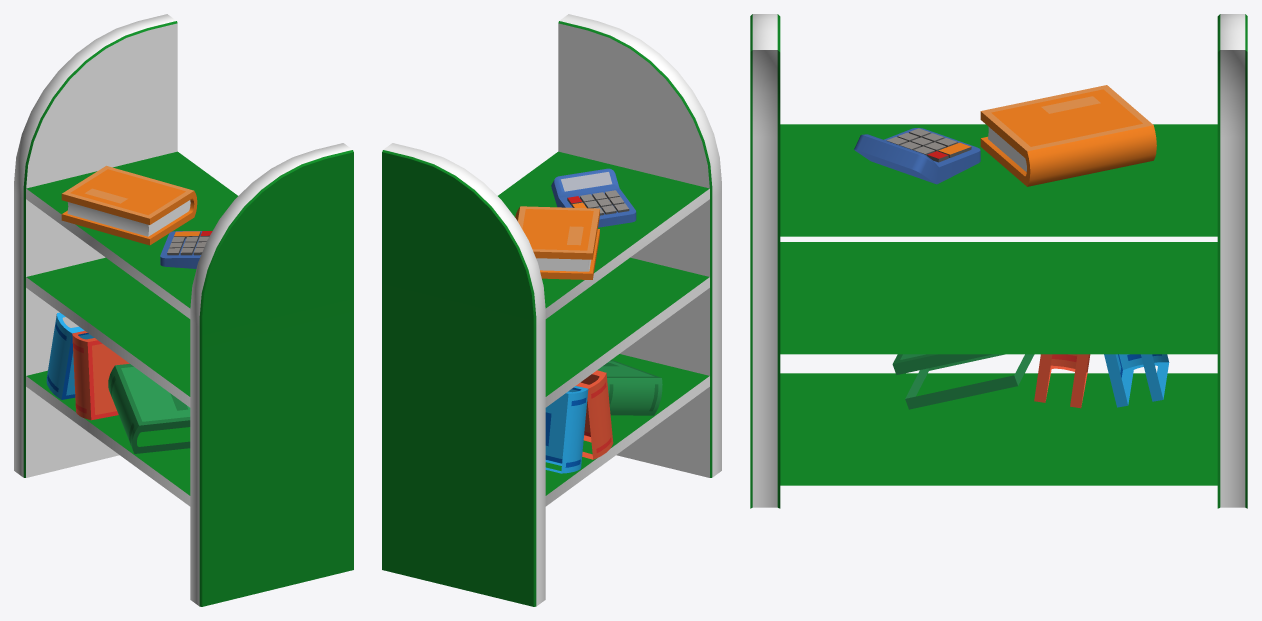
The model's file is Book Shelf LEVEL-2-3.fbx.
The picture shows the model from 3 angles, left to right: view 1: azimuth 30°, elevation 25°; view 2: azimuth 150°, elevation 25°; view 3: azimuth 270°, elevation 25°; orthographic projection. The views are drawn at different scales.
Visible parts, largest first — view 1: Book Shelf LEVEL-2-3; view 2: Book Shelf LEVEL-2-3; view 3: Book Shelf LEVEL-2-3.
Boxes of the visible parts, x1,y1,x2,y2 form: Book Shelf LEVEL-2-3: (14, 14, 353, 606); Book Shelf LEVEL-2-3: (382, 14, 721, 606); Book Shelf LEVEL-2-3: (750, 14, 1247, 508).
Bounding box in the file's own units: 4.78 × 12.16 × 9.84.
